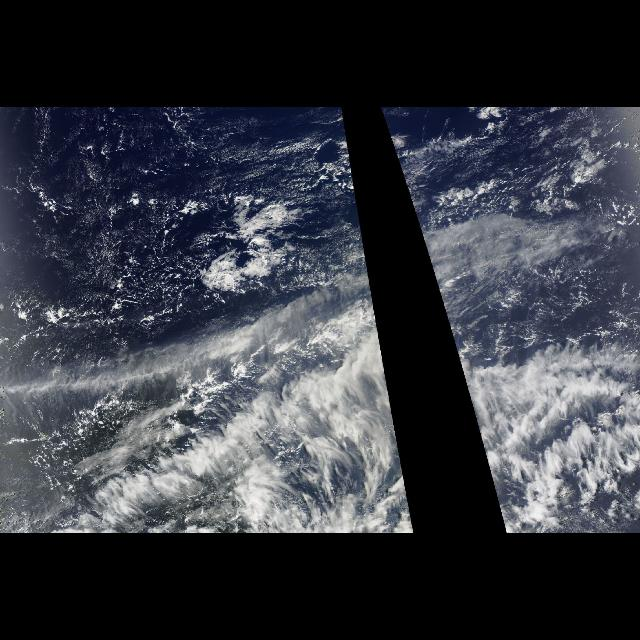Gravel: (0, 110, 202, 314), (392, 111, 582, 211), (214, 120, 364, 230)
Sugar: (0, 107, 358, 331)
